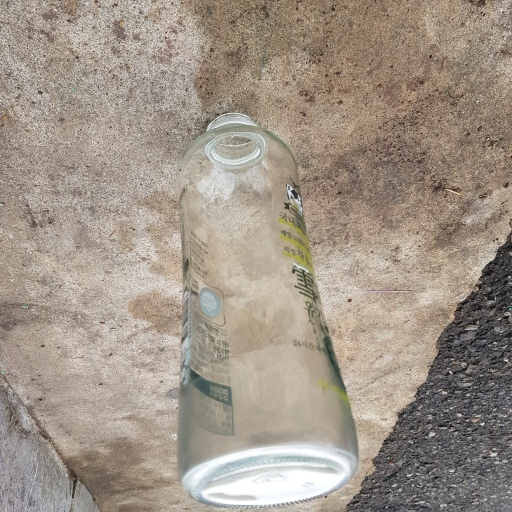Glass_4: (170, 110, 365, 512)
